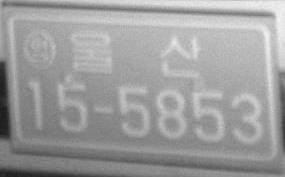-: (90, 103, 116, 114)
1: (22, 79, 49, 129)
3: (230, 91, 263, 145)
5: (117, 83, 150, 139), (191, 90, 225, 144), (55, 81, 88, 133)
8: (155, 87, 188, 140)
영: (22, 27, 57, 71)
울산_D: (69, 28, 202, 79)
